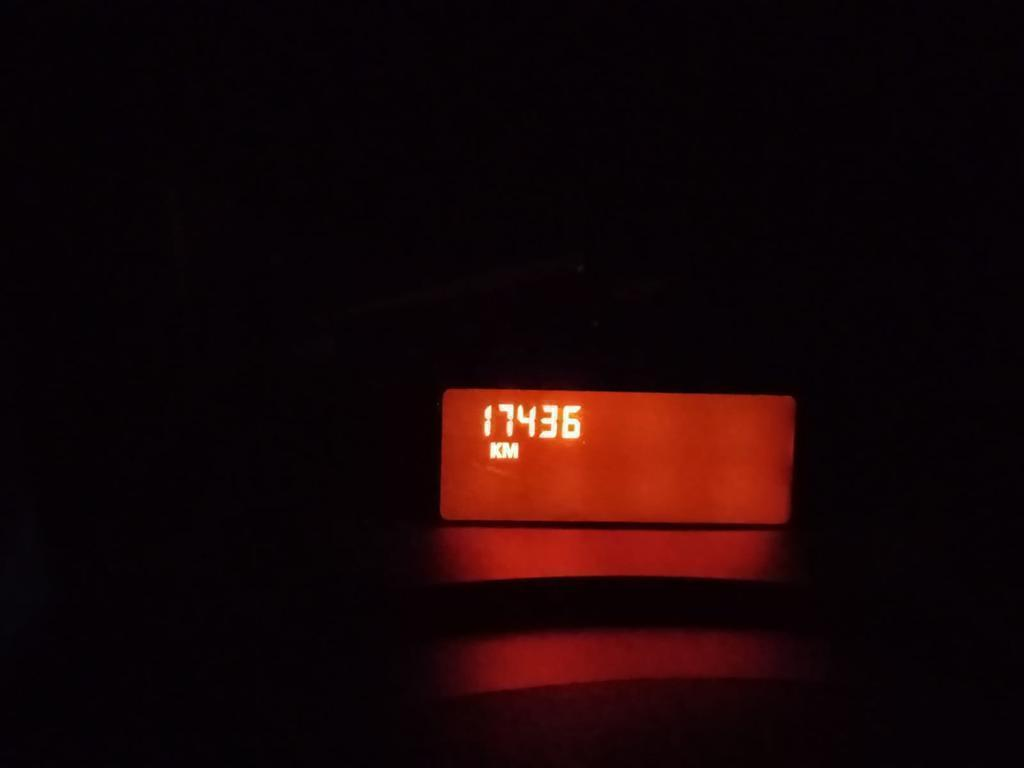1: (482, 403, 493, 437)
3: (538, 403, 558, 439)
4: (516, 403, 536, 438)
6: (560, 403, 583, 440)
7: (496, 402, 515, 437)
X: (501, 441, 520, 460), (489, 440, 501, 460)
odometer: (433, 383, 801, 532)
